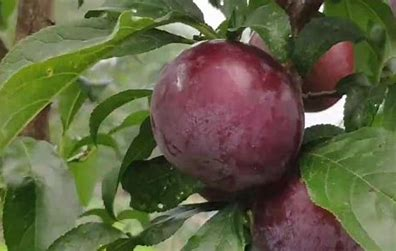plum_A: (151, 39, 305, 194)
